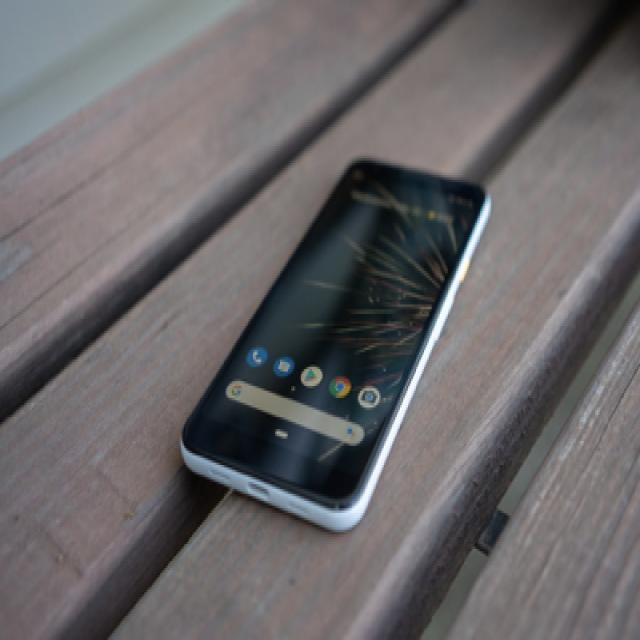cellphone: (178, 153, 491, 534)
